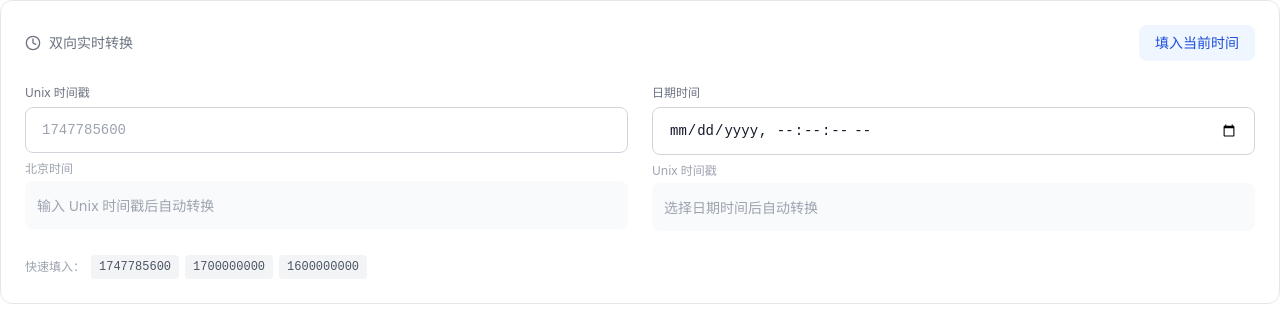
Test: UnixTimestampConverter › fills current time when clicking the button
Expected: the text "输入 Unix 时间戳后自动转换" is shown, [37,196,214,215]
Click the button "填入当前时间": (1197,43) [1139,25,1255,61]
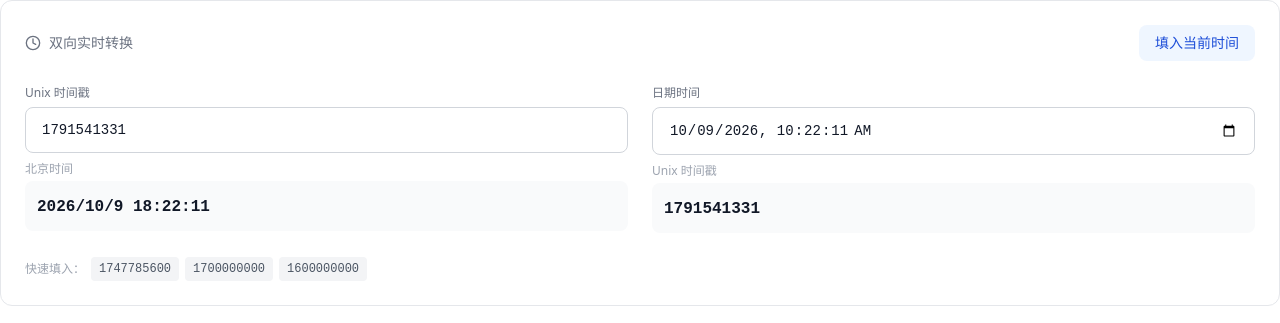
Expected: the text "输入 Unix 时间戳后自动转换" is gone
Expected: the text "选择日期时间后自动转换" is gone
